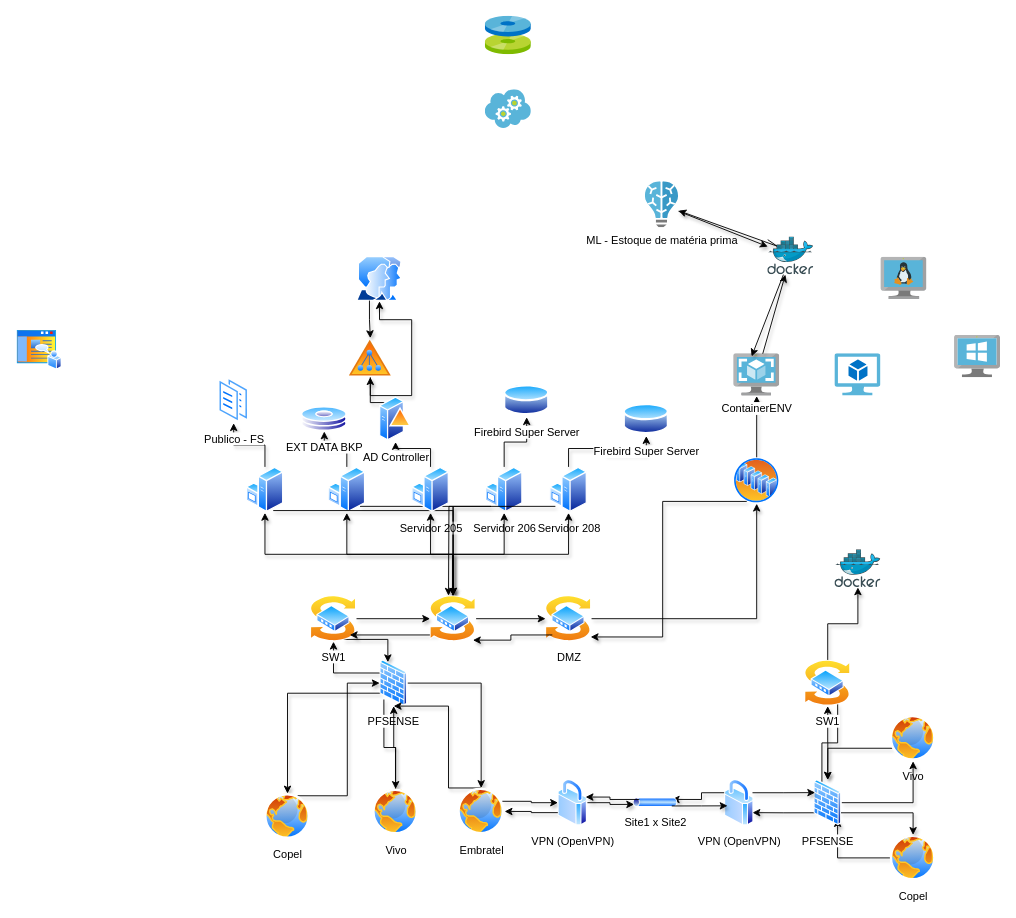
The diagram is 1016 pixels wide and 918 high, and some of its shapes have lost their labels. Each missing label, with the centre of its shape:
"AD" belongs at (370,357).
"Container APP Server" belongs at (790,255).
"Digital Ocean" belongs at (508,108).
"EXT Backup OFFSITE Server" belongs at (857,568).
"Intranet" belongs at (39,349).
"Minio S3 bucket Storage" belongs at (508,35).
"Servidor 203" belongs at (264,489).
"Servidor 204" belongs at (346,489).
"SRVENV" belongs at (857,374).
"SW2" belongs at (453,618).
"VMWARE ESXI 6.5" belongs at (756,480).
